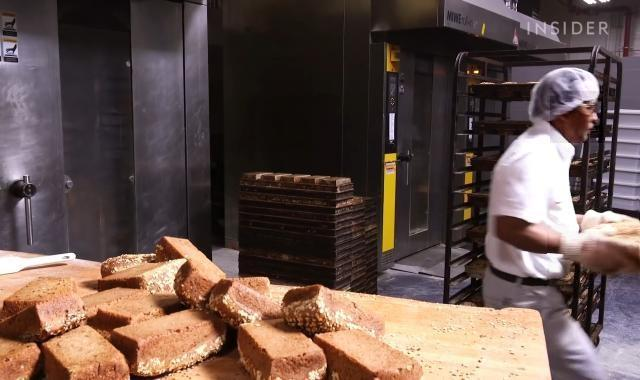apron: (547, 225, 640, 297), (569, 196, 640, 231)
gloves: (530, 68, 606, 120)
no_hairnet: (551, 91, 604, 143)
